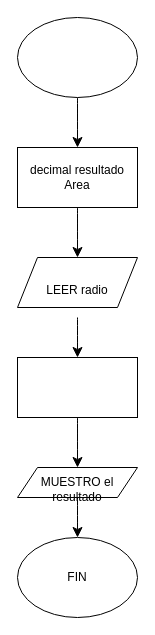
Image size: 155x635. Some labels were removed from this diagram. Here are the shapes that lost their labels. From the top down, the centre of each, then its label:
At point (77, 57): "INICIO".
At point (77, 387): "Area = radio x radio x PI".
